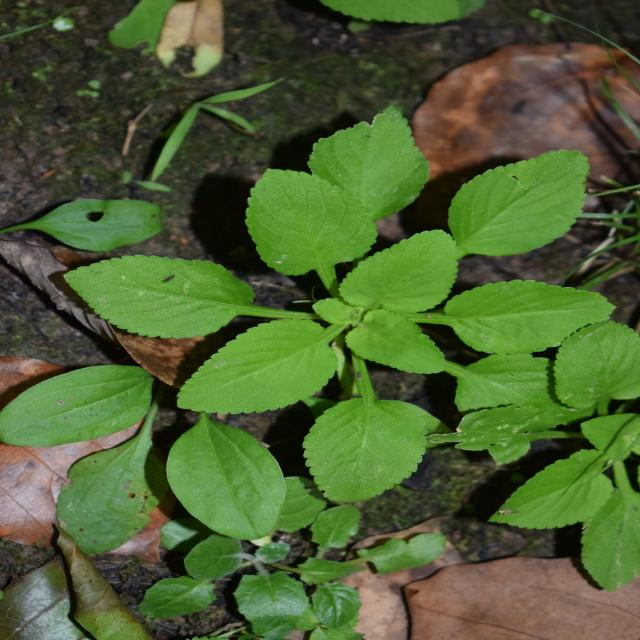Viola: (151, 49, 473, 504)
